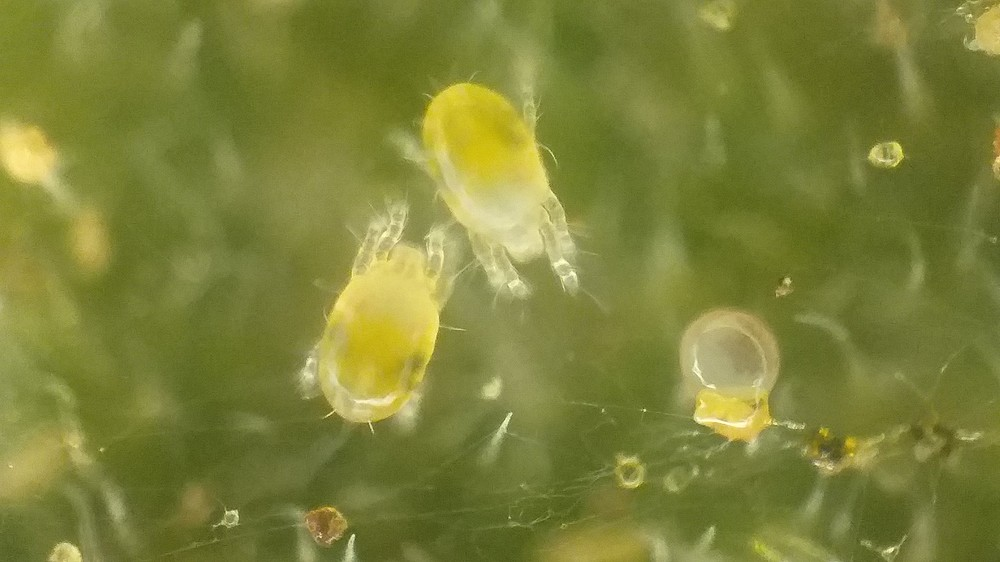Aracnido Rojo: (395, 55, 603, 309), (282, 199, 463, 437)
